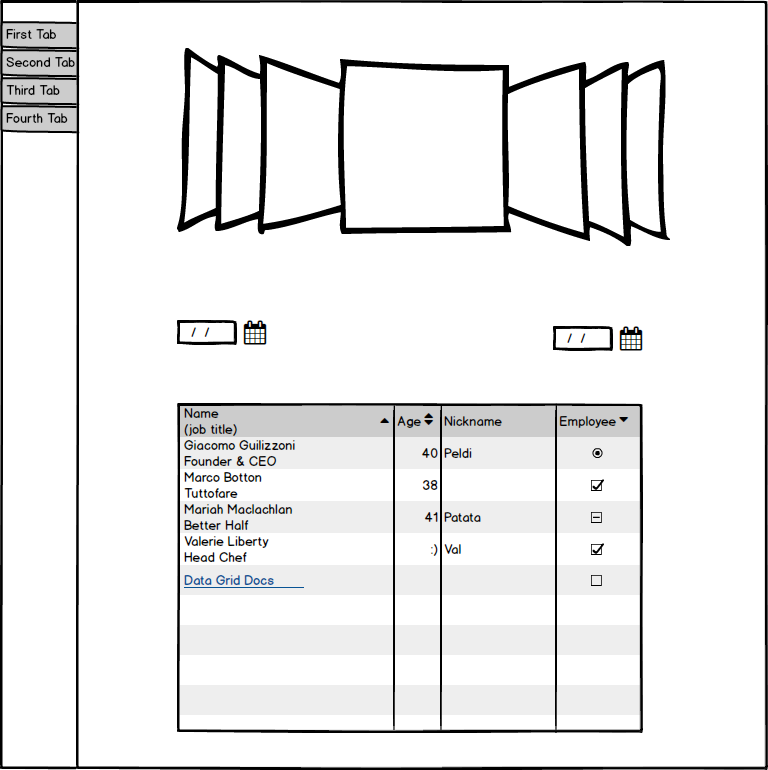date_picker: (546, 317, 647, 360), (166, 311, 271, 351)
sidebar: (1, 14, 82, 143)
slideshow: (160, 39, 680, 255)
table: (172, 399, 651, 741)
